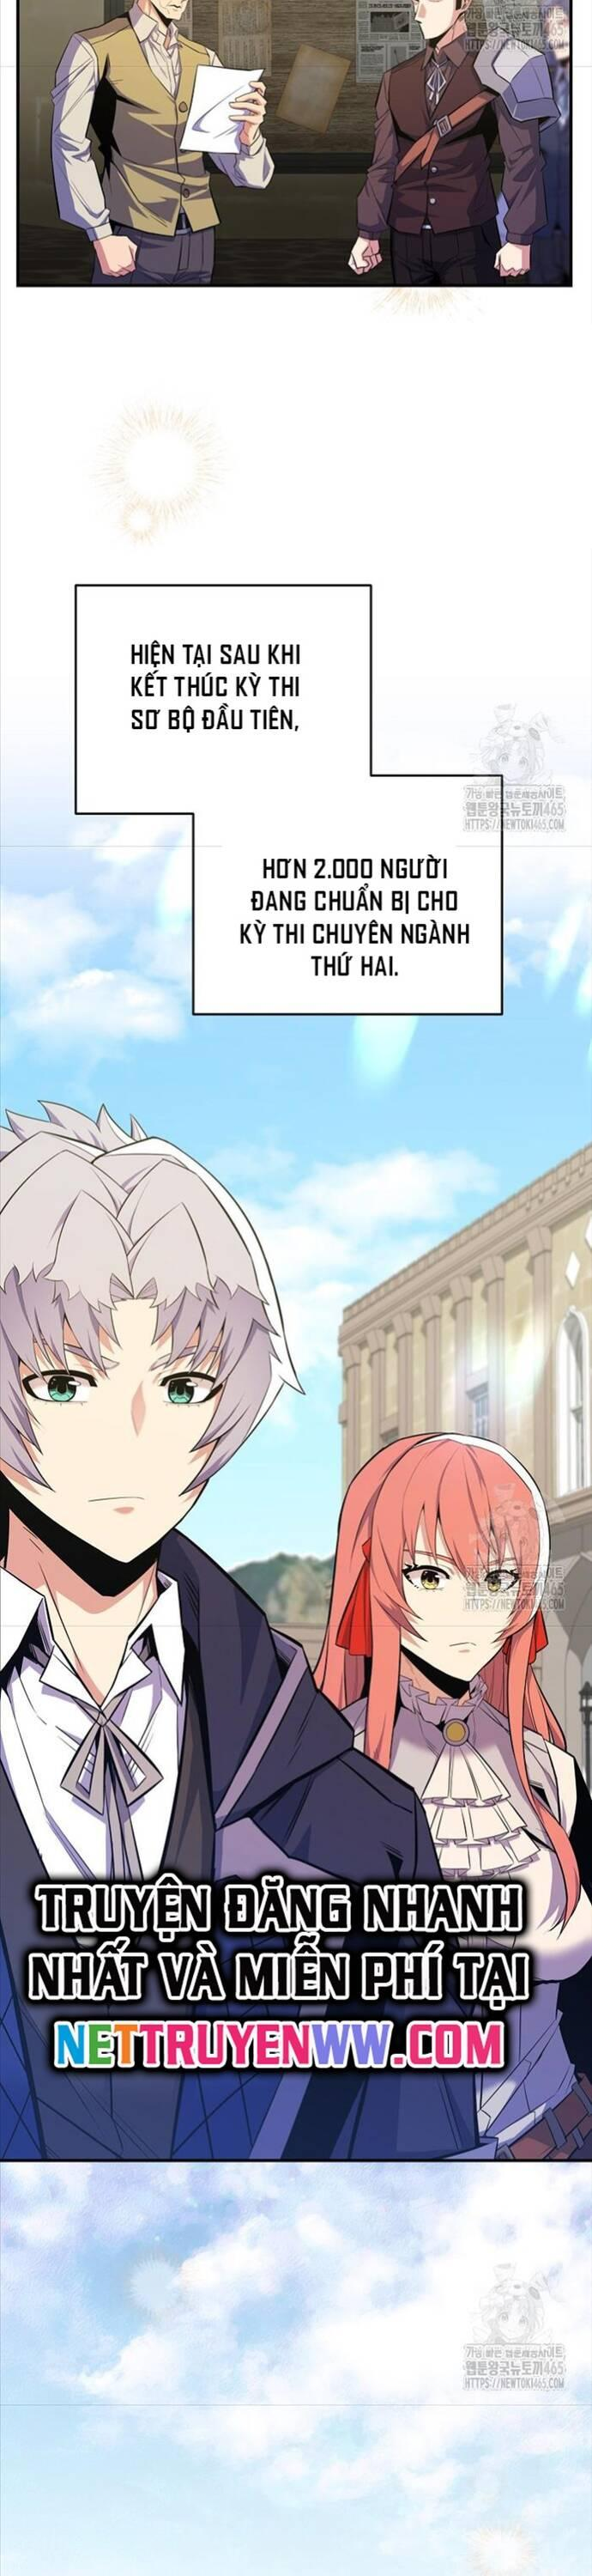quangcao: (30, 1863, 536, 2078)
